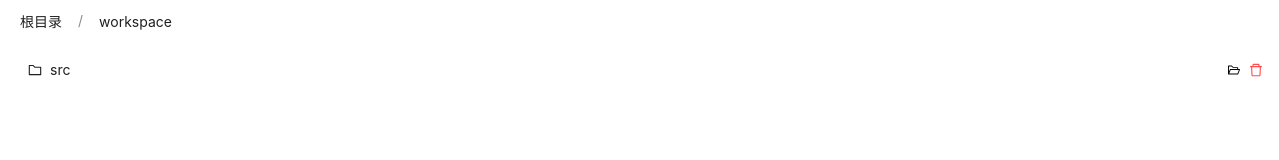
Test: FileSelector › loads the next directory when a folder is opened
Step 1. Click the button with aria-label "src folder open" → (35, 70), box [12,54,1220,86]
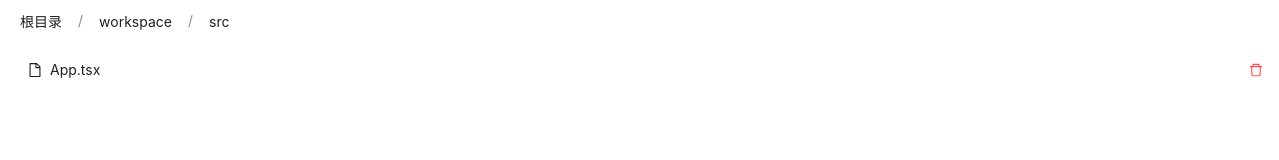
Now the text "App.tsx" is shown, box [50,62,100,78]
